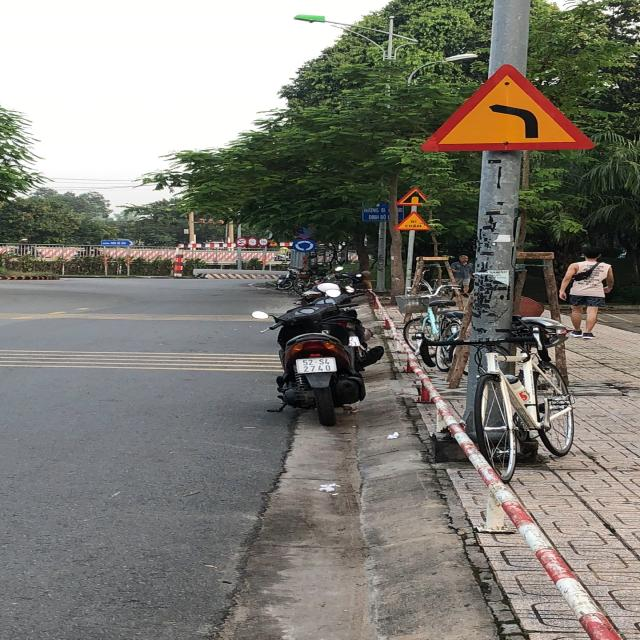Bien bao cho ngoat nguy hiem: (409, 56, 600, 153)
Bien bao di cham: (389, 209, 432, 232)
Bien bao noi giao nhau chay theo vong xuyen: (292, 238, 317, 252)
